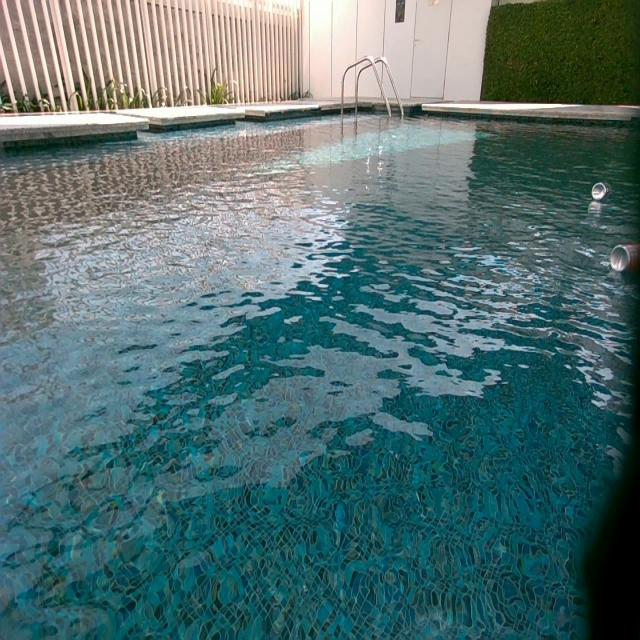Cans: (611, 245, 640, 277), (592, 180, 608, 200)
